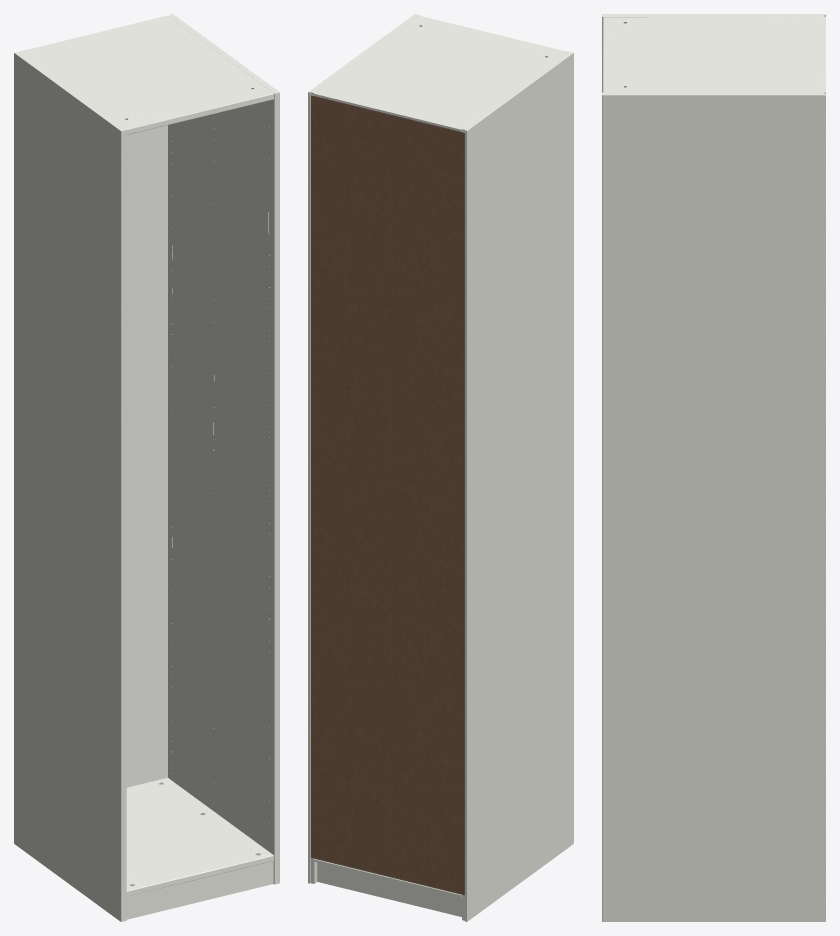
File: pax_obudowa_szafy_80214568.glb
3 renders of one model, left to right at view 1: azimuth 30°, elevation 25°; view 2: azimuth 150°, elevation 25°; view 3: azimuth 270°, elevation 25°, orthographic. The views are drawn at different scales.
Visible parts, largest first — view 1: pax_obudowa_szafy_80214568; view 2: pax_obudowa_szafy_80214568; view 3: pax_obudowa_szafy_80214568.
Part boxes in pixels (x1,y1,x2,y2): pax_obudowa_szafy_80214568: (14,14,279,921); pax_obudowa_szafy_80214568: (308,14,573,921); pax_obudowa_szafy_80214568: (602,14,825,921).
Size of the model in its own units: 0.4975 by 2.36 by 0.58.
1 material, 1 textured.
